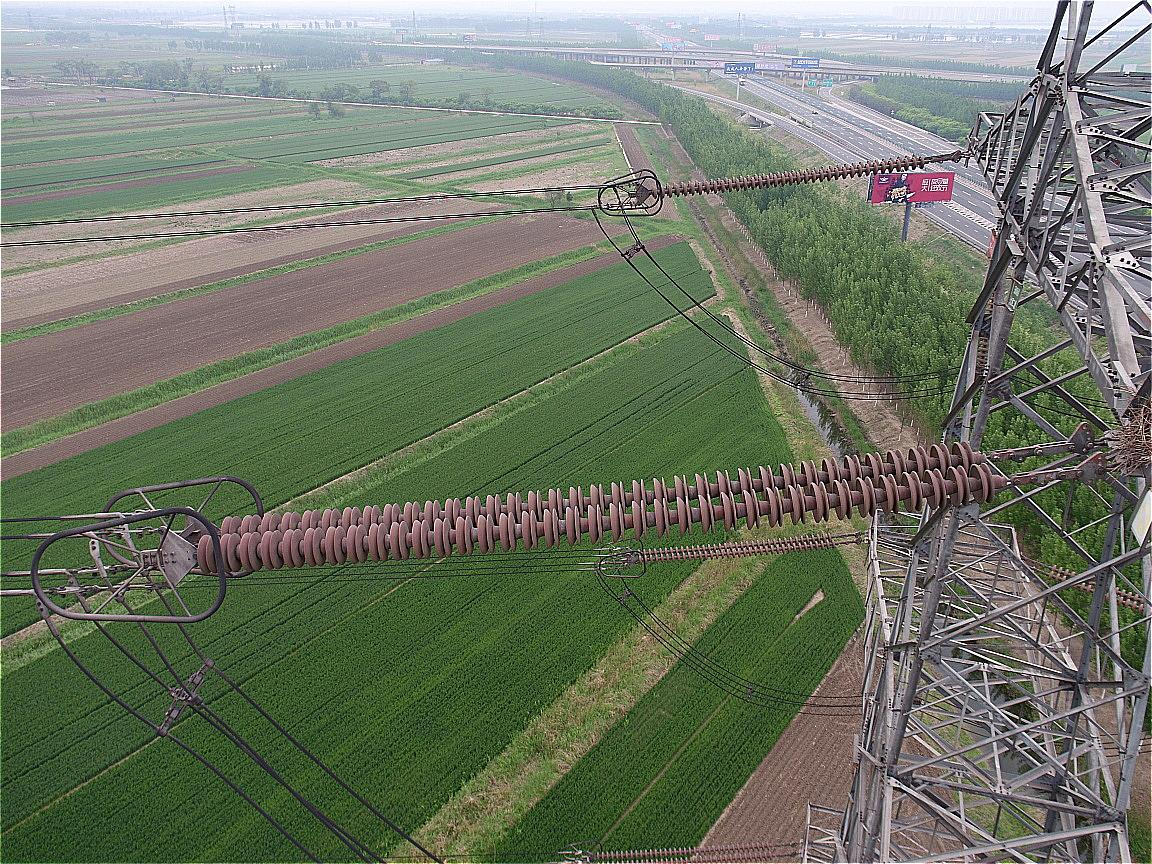insultor1: (658, 153, 927, 199)
insultor2: (195, 440, 991, 581)
